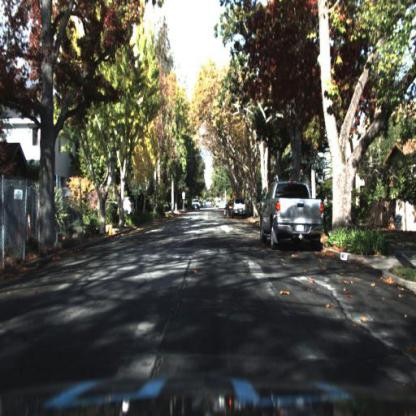car: (253, 171, 331, 260), (258, 178, 328, 250), (233, 196, 249, 220), (235, 200, 251, 221), (225, 202, 236, 215)
